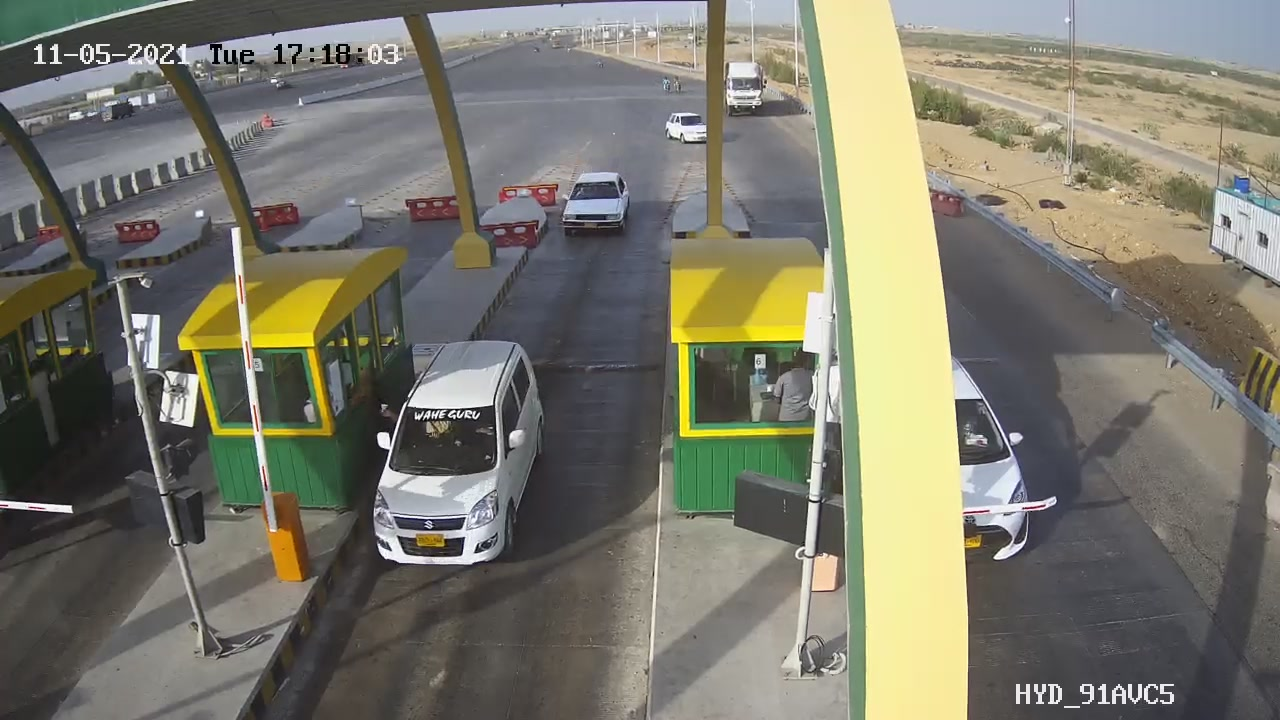F1: (356, 324, 561, 586)
